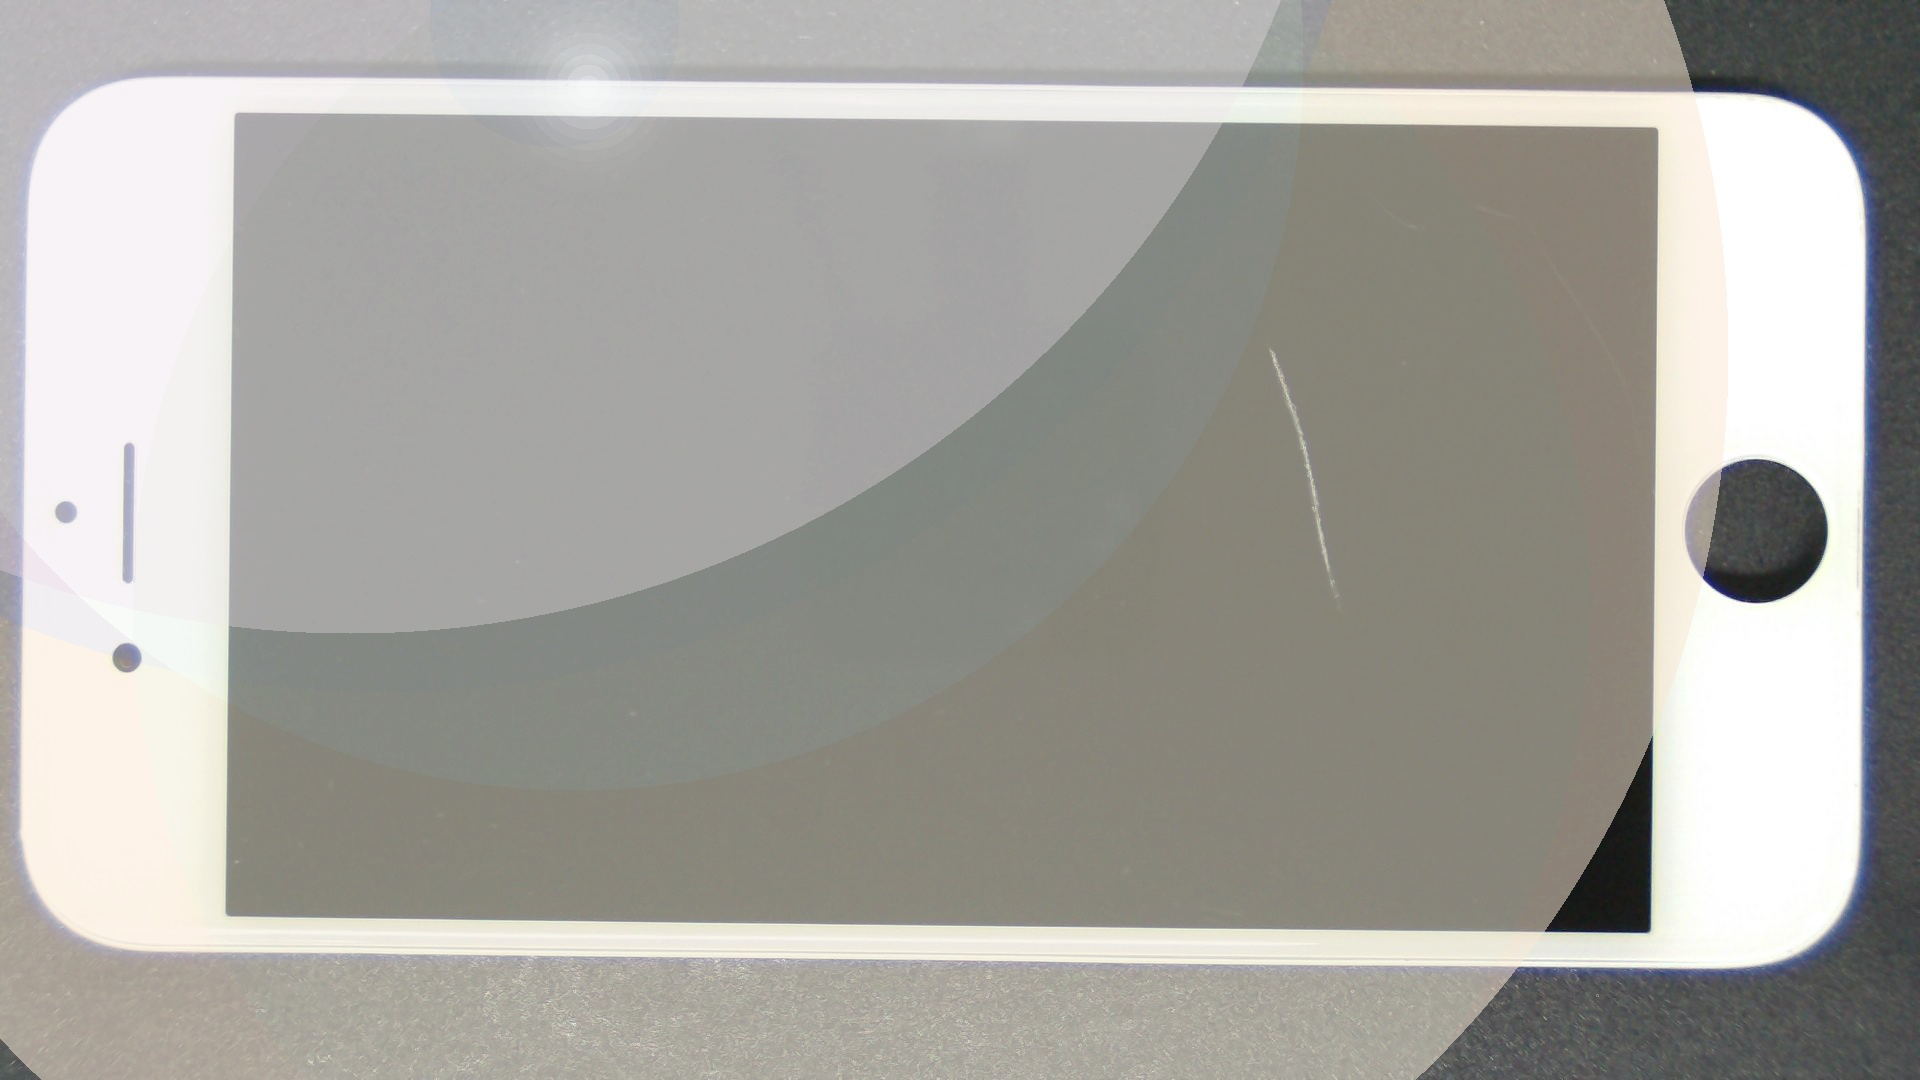oil: (634, 173, 1902, 520)
